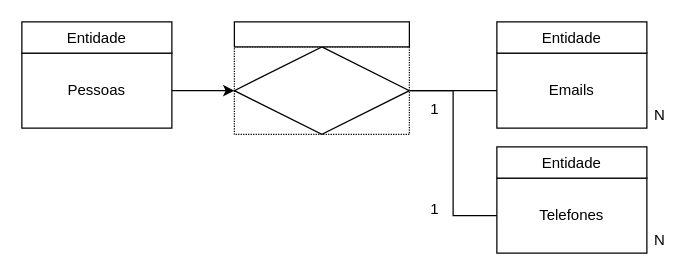
Some shapes in this 694 by 275 pixel diagram are drawn without their labels. The centre of each missing label's shape, as x and y in pixels:
"Possui" goes at (321,90).
"Relacionamento" goes at (321,34).
